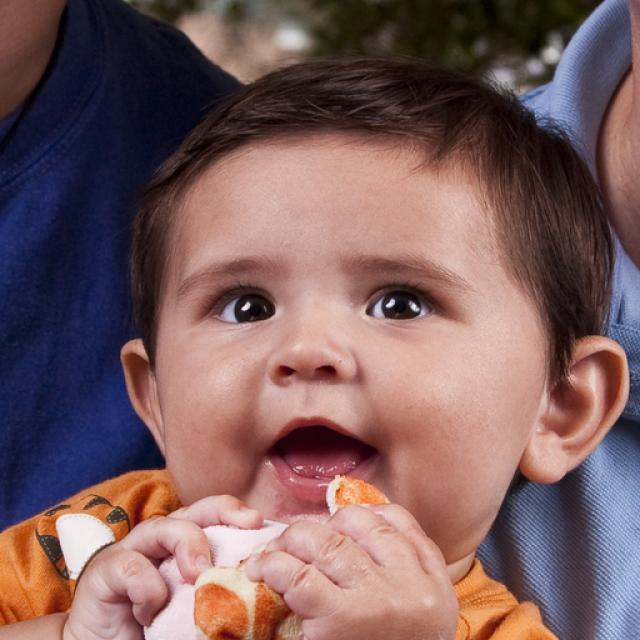surprise: (153, 112, 542, 586)
